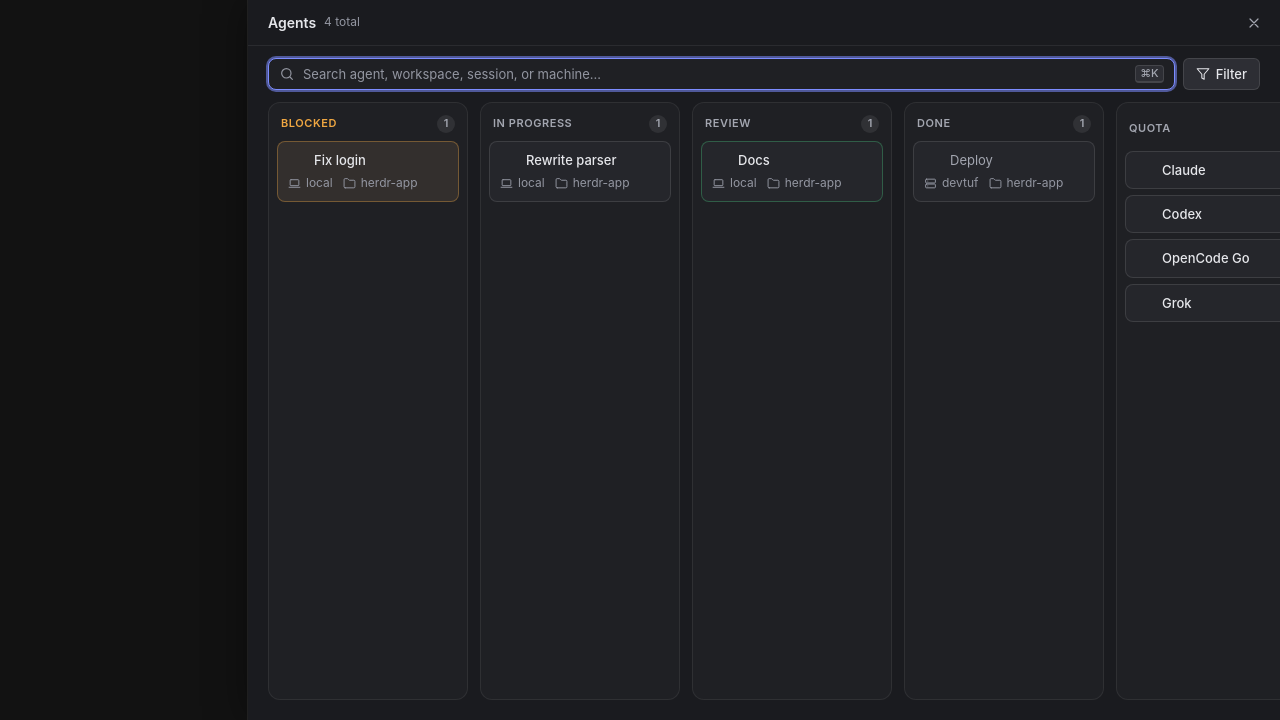
AgentDashboard › filters by machine from the Filter menu
The width and height of the screenshot is (1280, 720).
Click the button "Filter". click: (1221, 74)
box: left=1183, top=58, right=1260, bottom=90
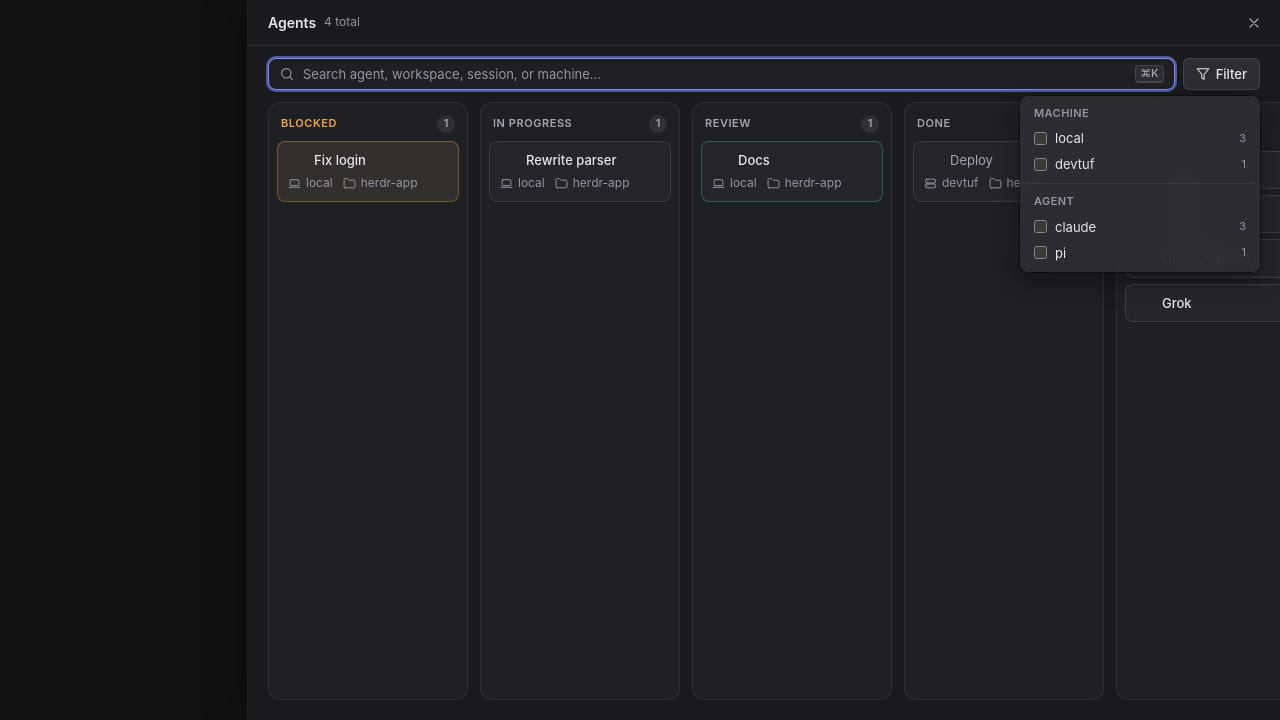
Click the checkbox labelled "devtuf 1". click: (1040, 164)
box: left=1034, top=158, right=1047, bottom=171
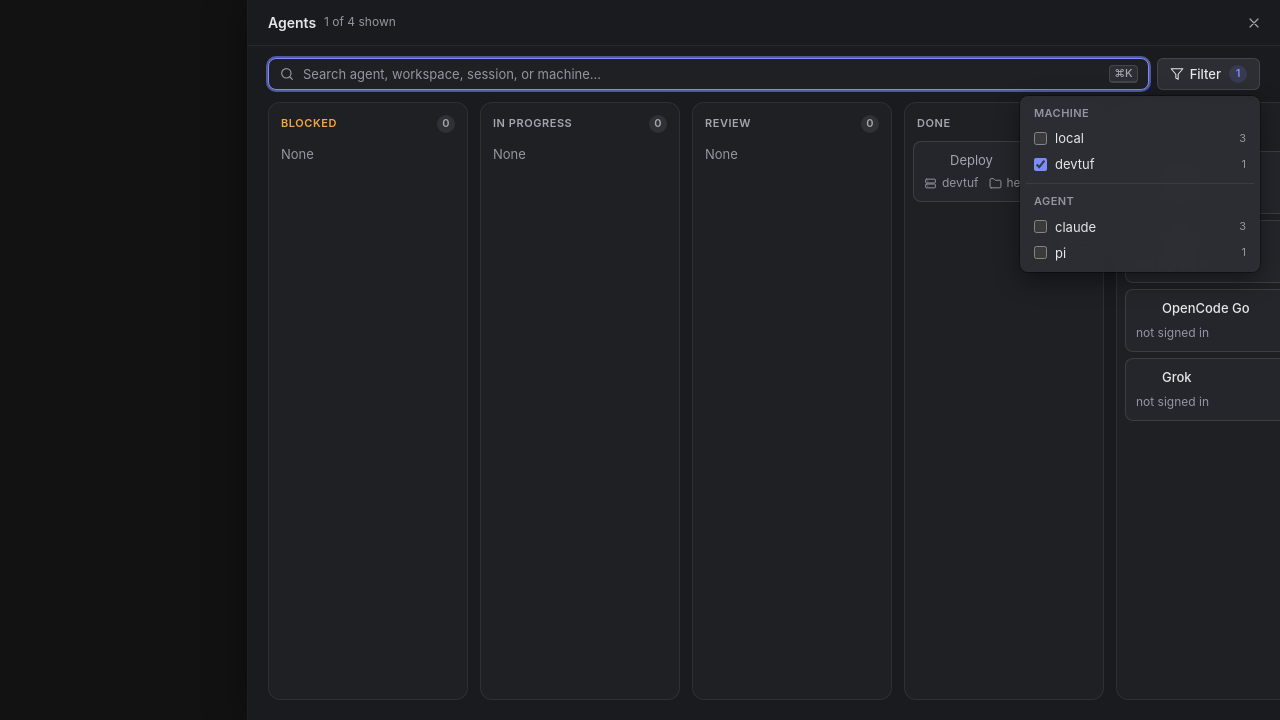
Expected: the text "Deploy" is shown, left=950, top=151, right=993, bottom=169
Expected: the button "Fix login" is gone
